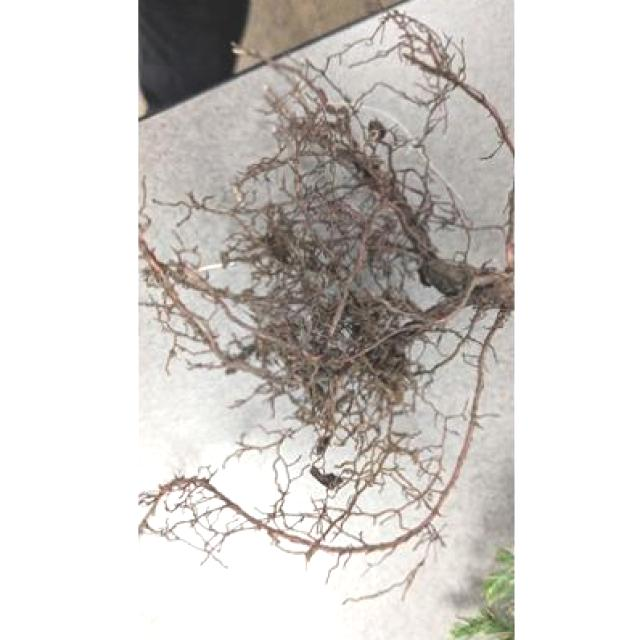leaf: (454, 542, 516, 640)
root: (175, 448, 425, 589), (267, 178, 401, 414)
